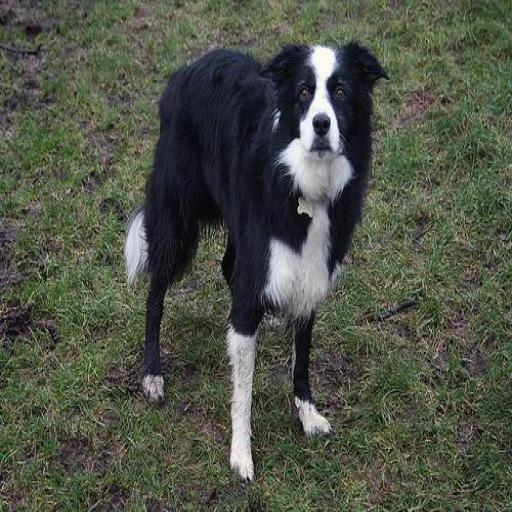dog_face: (275, 36, 379, 187)
